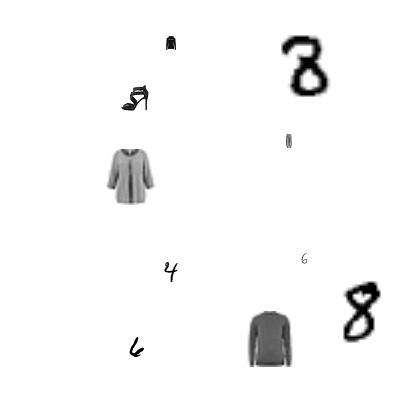4: (156, 256, 184, 284)
6: (121, 335, 149, 363), (297, 252, 311, 266)
8: (317, 267, 401, 351), (264, 21, 348, 105)
Pullover: (242, 311, 298, 367), (164, 36, 178, 50)
Sandal: (121, 84, 149, 112)
Shirt: (103, 149, 159, 205)
Trouser: (282, 134, 296, 148)
